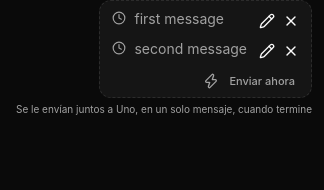
Test: QueuedMessages › only puts one line in edit mode at a time
What coordinates should you click on to do the following:
click the button named "Editar" next to "first message"
I would click on:
 (267, 21)
Its box is [255,9,279,33].
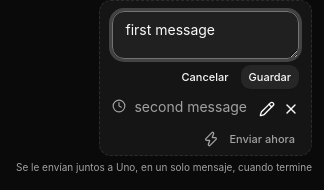
Expected: the text box holds "first message", [112,11,299,59]
// Click edit on the second line
What coordinates should you click on to do the following:
click the button named "Editar"
I would click on:
 (267, 109)
Its box is [255,97,279,121].
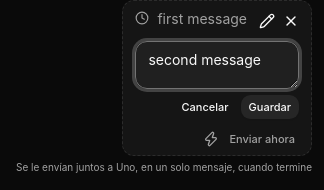
Expected: the number of text boxes is 1, [135,41,299,89]
Expected: the text box holds "second message", [135,41,299,89]
